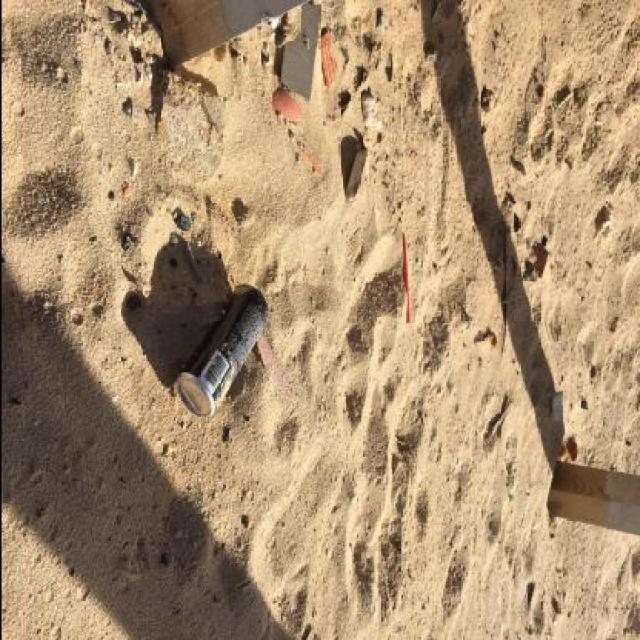metal: (175, 282, 267, 418)
